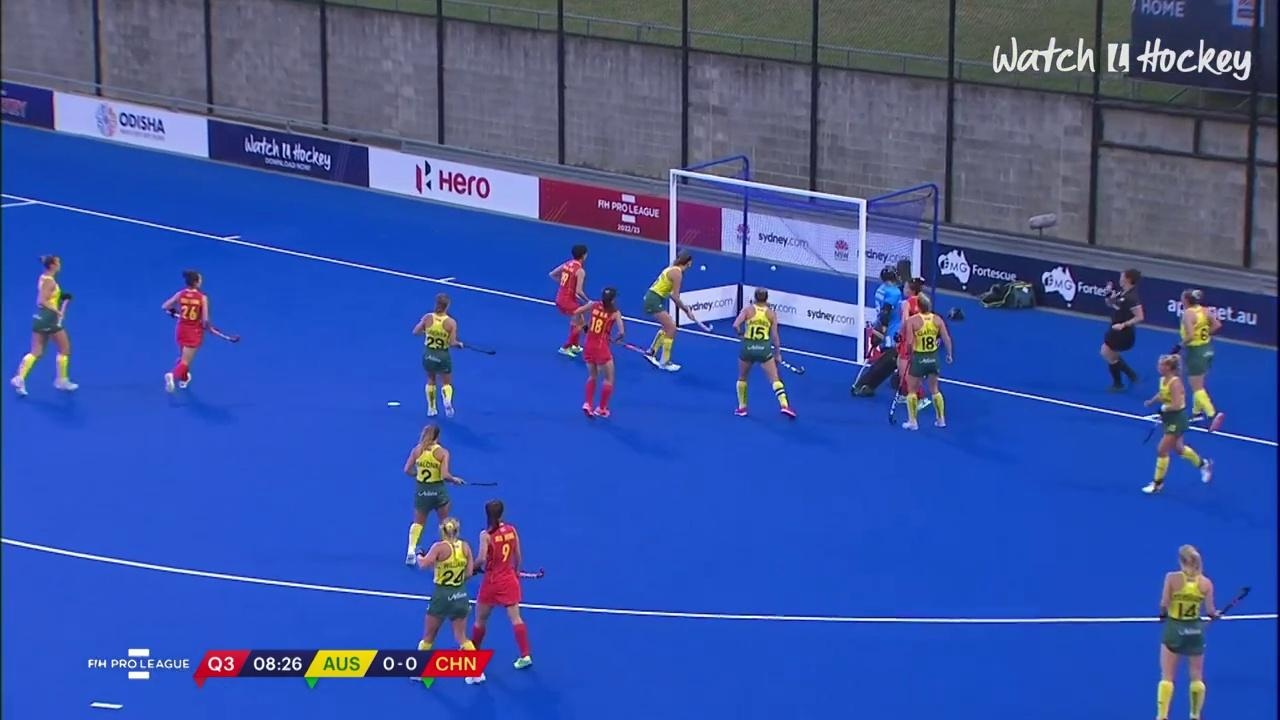ball: (694, 259, 713, 277)
